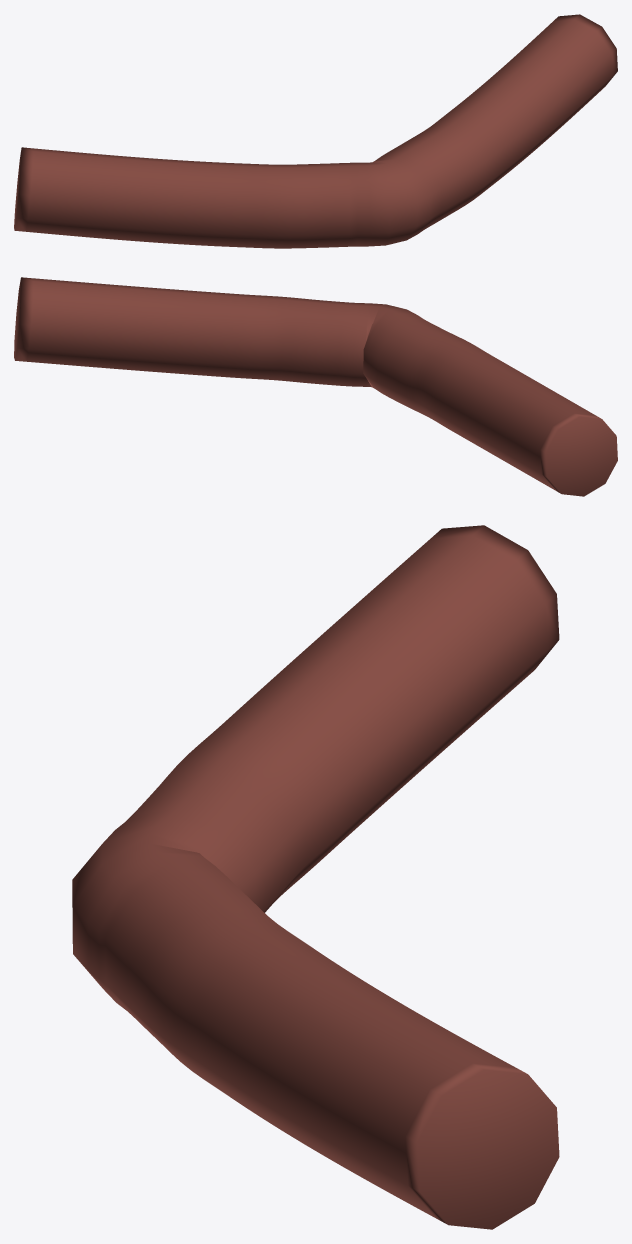
File: 3HT-feminino.glb
The picture shows the model from 3 angles, top to bottom: view 1: azimuth 30°, elevation 25°; view 2: azimuth 150°, elevation 25°; view 3: azimuth 270°, elevation 25°; orthographic projection. The views are drawn at different scales.
Parts seen in each view (by area): view 1: mouth-relief; view 2: mouth-relief; view 3: mouth-relief.
Boxes of the visible parts, x1,y1,x2,y2 form: mouth-relief: [14, 14, 617, 248]; mouth-relief: [14, 277, 617, 496]; mouth-relief: [72, 525, 559, 1229].
Bounding box in the file's own units: 0.0106 × 0.00165 × 0.00371.
